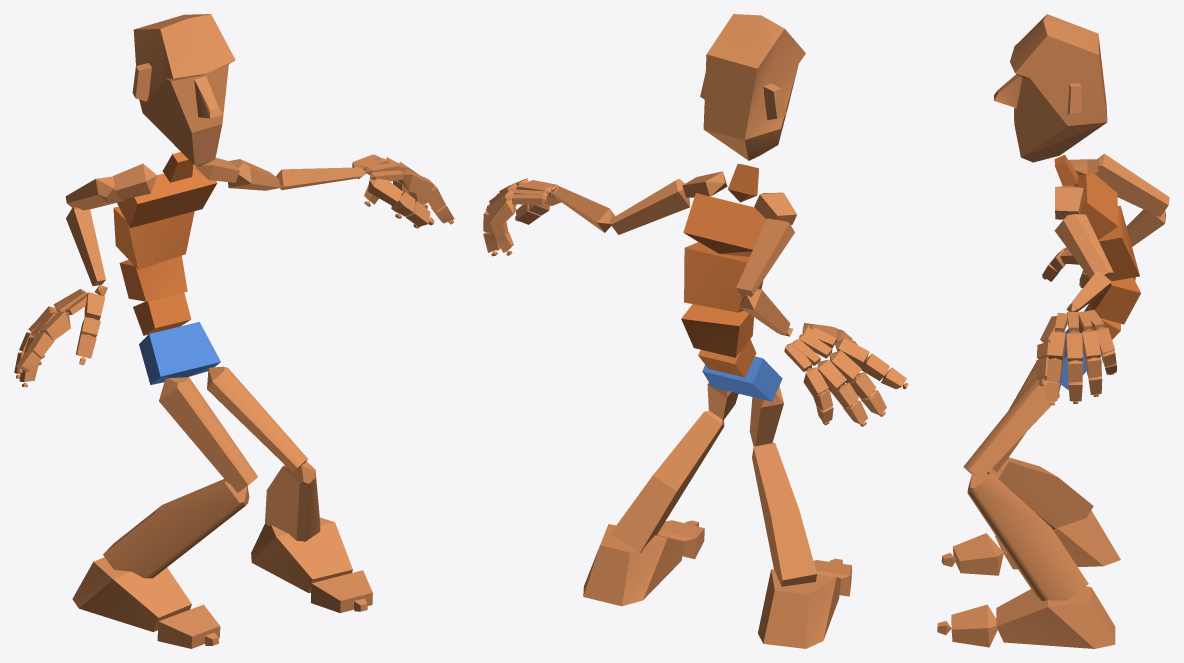
File: prueba48.obj
3 renders of one model, left to right at view 1: azimuth 30°, elevation 25°; view 2: azimuth 150°, elevation 25°; view 3: azimuth 270°, elevation 25°, orthographic. The views are drawn at different scales.
Visible parts, largest first — view 1: BOPED_Head, BOPED_R_leg, BOPED_R_foot, BOPED_R_foot01, BOPED_R_legup, Bone01, BOPED_L_leg, BOPED_L_legup, Bone04, Bone05, Bone03, BOPED_R_foot_toe01 (+10 smaller); view 2: BOPED_Head, BOPED_L_leg, BOPED_R_leg, BOPED_R_foot01, BOPED_R_foot, Bone05, Bone04, Bone03, BOPED_R_arm_upper, BOPED_L_arm_upper, Bone01, BOPED_R_legup (+9 smaller); view 3: BOPED_Head, BOPED_L_leg, BOPED_R_foot01, BOPED_R_leg, BOPED_L_legup, BOPED_R_foot, BOPED_R_arm_upper, BOPED_L_arm_upper, Bone05, BOPED_R_foot_toe01, BOPED_R_foot_toe04, Bone04 (+13 smaller).
Boxes of the visible parts, <box> form: BOPED_Head: <box>132,14,235,166</box>; BOPED_R_leg: <box>103,479,249,578</box>; BOPED_R_foot: <box>72,557,191,631</box>; BOPED_R_foot01: <box>251,517,352,592</box>; BOPED_R_legup: <box>159,377,257,492</box>; Bone01: <box>139,322,220,384</box>; BOPED_L_leg: <box>265,461,320,541</box>; BOPED_L_legup: <box>207,366,307,472</box>; Bone04: <box>113,206,194,269</box>; Bone05: <box>117,165,217,227</box>; Bone03: <box>119,255,187,301</box>; BOPED_R_foot_toe01: <box>157,604,220,648</box>; BOPED_Head: <box>700,14,805,160</box>; BOPED_L_leg: <box>611,410,724,552</box>; BOPED_R_leg: <box>752,442,816,586</box>; BOPED_R_foot01: <box>583,524,685,606</box>; BOPED_R_foot: <box>758,569,841,648</box>; Bone05: <box>683,193,766,256</box>; Bone04: <box>684,242,763,312</box>; Bone03: <box>681,304,753,357</box>; BOPED_R_arm_upper: <box>736,218,794,297</box>; BOPED_L_arm_upper: <box>609,179,689,234</box>; Bone01: <box>702,356,782,401</box>; BOPED_R_legup: <box>749,386,783,446</box>; BOPED_Head: <box>994,14,1107,162</box>; BOPED_L_leg: <box>967,474,1088,601</box>; BOPED_R_foot01: <box>996,586,1115,648</box>; BOPED_R_leg: <box>987,457,1093,529</box>; BOPED_L_legup: <box>963,377,1059,479</box>; BOPED_R_foot: <box>995,510,1120,569</box>; BOPED_R_arm_upper: <box>1094,153,1169,216</box>; BOPED_L_arm_upper: <box>1054,214,1113,278</box>; Bone05: <box>1077,173,1118,239</box>; BOPED_R_foot_toe01: <box>952,533,1003,575</box>; BOPED_R_foot_toe04: <box>951,604,997,647</box>; Bone04: <box>1098,205,1139,281</box>.
Size of the model in its own units: 131 by 171 by 64.34.
